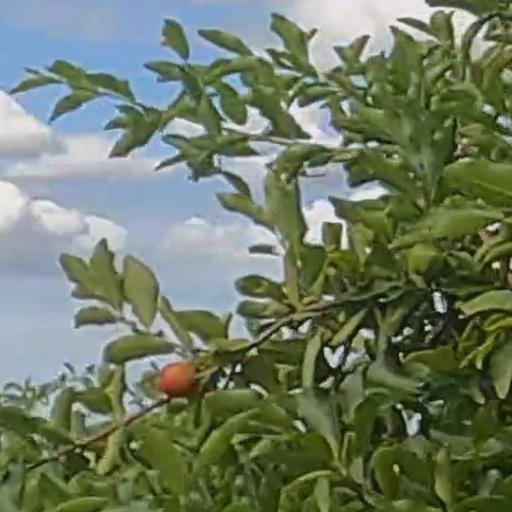acerola: (163, 365, 198, 392)
